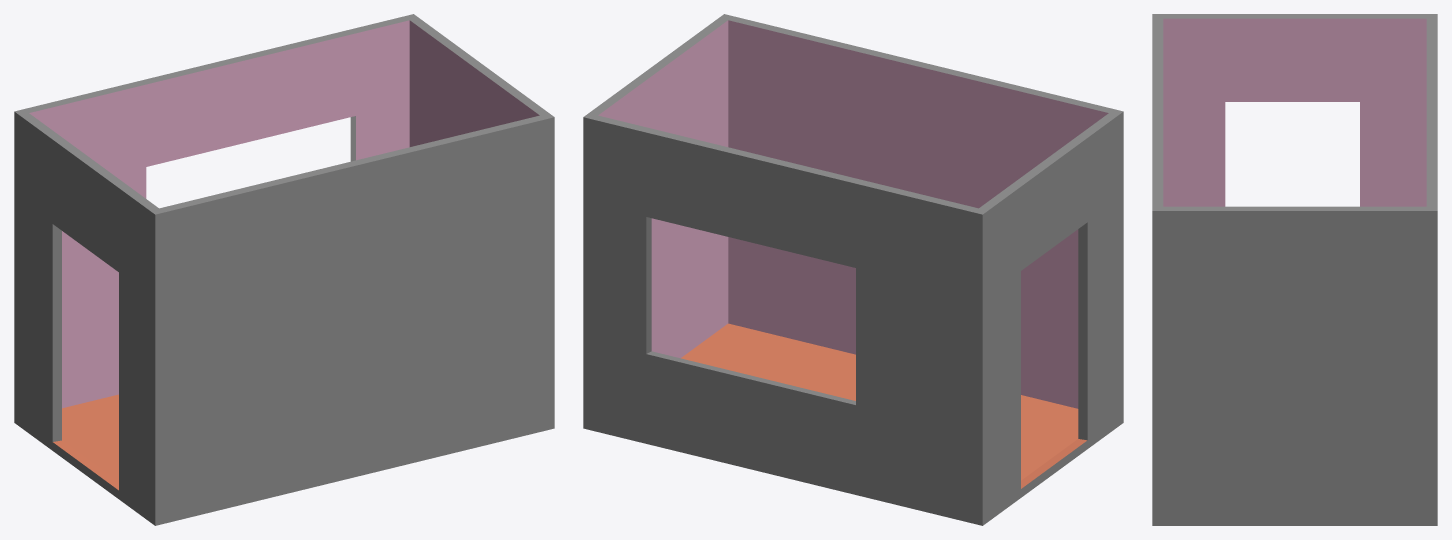
The model's file is BedRoom.fbx.
3 views of the same model, side by side, from view 1: azimuth 30°, elevation 25°; view 2: azimuth 150°, elevation 25°; view 3: azimuth 270°, elevation 25° (orthographic).
Parts seen in each view (by area): view 1: BadRoom.001; view 2: BadRoom.001; view 3: BadRoom.001.
Part boxes in pixels (x1,y1,x2,y2): BadRoom.001: [14, 14, 554, 525]; BadRoom.001: [583, 14, 1123, 525]; BadRoom.001: [1152, 14, 1437, 525].
Bounding box in the file's own units: 483 × 360 × 295.
